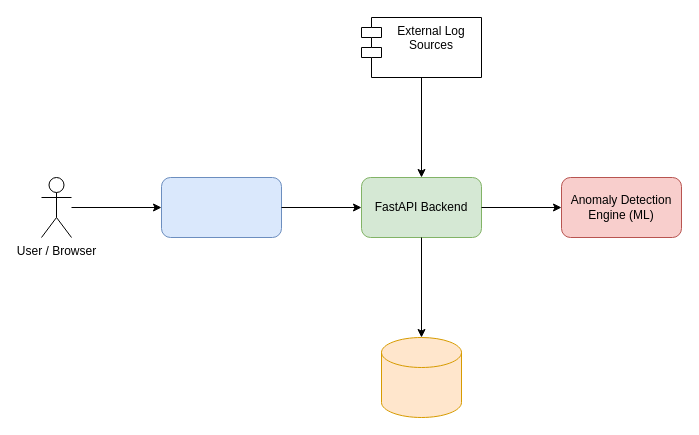
Image size: 699x435. Some labels were removed from this diagram. The shapes that lost their labels are listed below. From the top down, each one's box as (x1, y1, x2, y2) in pixels, then its label:
(160, 176, 282, 238): Streamlit Dashboard
(380, 336, 462, 418): PostgreSQL
